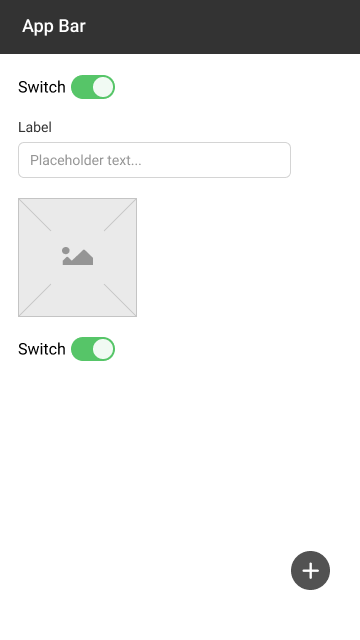editText: (16, 140, 296, 181)
floatingButton: (288, 549, 332, 592)
imageView: (16, 195, 139, 319)
switch: (14, 334, 116, 362), (14, 73, 116, 100)
textView: (17, 119, 54, 135)
toolbar: (1, 1, 360, 55)
